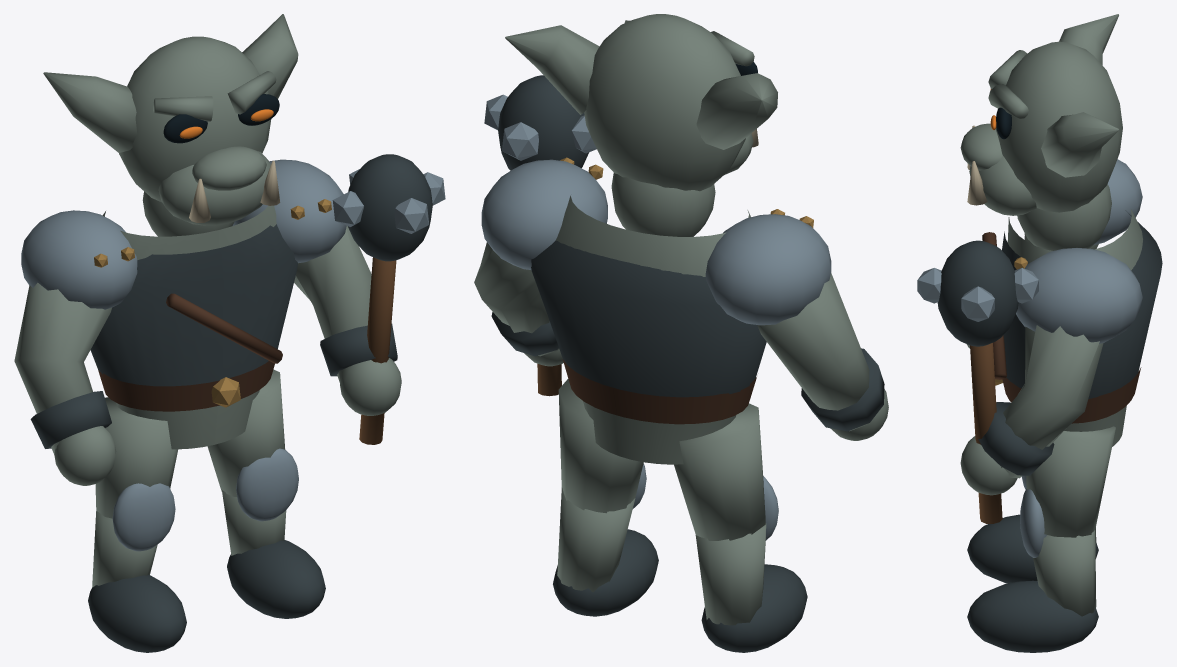
File: Raider.glb
3 renders of one model, left to right at view 1: azimuth 30°, elevation 25°; view 2: azimuth 150°, elevation 25°; view 3: azimuth 270°, elevation 25°, orthographic. The views are drawn at different scales.
Parts seen in each view (by area): view 1: Body.001, Arm_R.001, Arm_L.001, Calf_L, Calf_R, Leg_L, Leg_R; view 2: Body.001, Arm_R.001, Arm_L.001, Calf_L, Calf_R, Leg_L, Leg_R; view 3: Body.001, Arm_R.001, Calf_R, Leg_R, Calf_L.
Boxes of the visible parts, x1,y1,x2,y2 form: Body.001: (21, 14, 346, 449); Arm_R.001: (294, 154, 445, 444); Arm_L.001: (14, 282, 116, 485); Calf_L: (88, 483, 186, 652); Calf_R: (222, 448, 325, 618); Leg_L: (95, 397, 178, 518); Leg_R: (207, 369, 285, 496); Body.001: (481, 14, 831, 464); Arm_R.001: (474, 75, 596, 396); Arm_L.001: (757, 272, 888, 440); Calf_L: (695, 476, 807, 652); Calf_R: (553, 463, 658, 616); Leg_L: (674, 403, 765, 540); Leg_R: (558, 379, 643, 513); Body.001: (960, 14, 1162, 446); Arm_R.001: (917, 240, 1103, 523); Calf_R: (967, 488, 1098, 652); Leg_R: (1026, 426, 1115, 537); Calf_L: (967, 475, 1098, 583).
Size of the model in its own units: 1 by 1.43 by 0.5583.
